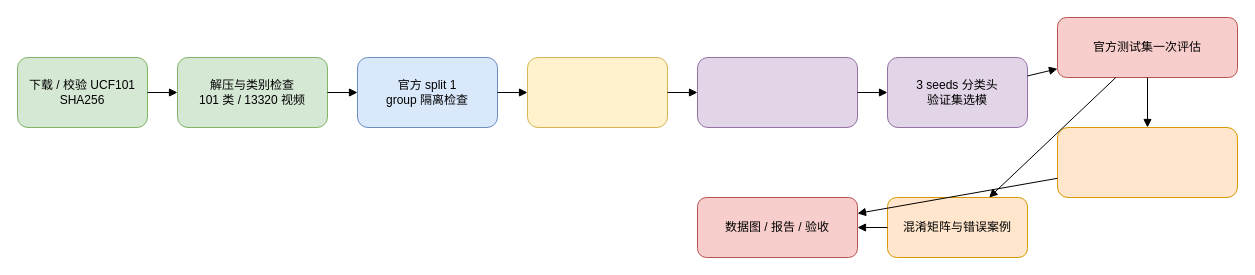
The diagram is 1255 pixels wide and 275 high, and some of its shapes have lost their labels. Each missing label, with the centre of its shape:
"2 GB 显存网格 AMP / 检查点" goes at (597,92).
"冻结特征提取 三条路线 / 三种采样" goes at (777,92).
"多种子统计与配对比较" goes at (1147,162).
